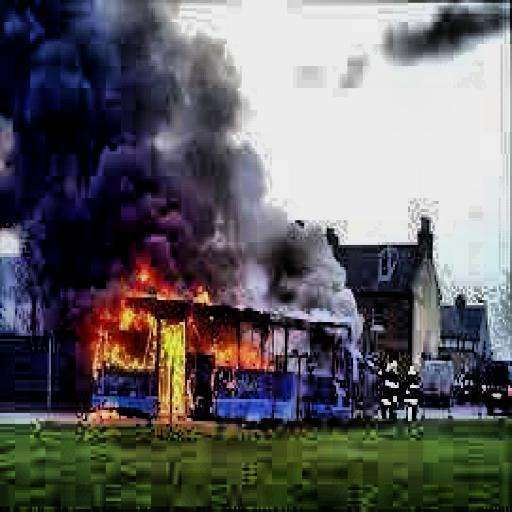fire: (83, 259, 202, 429), (210, 294, 278, 386)
